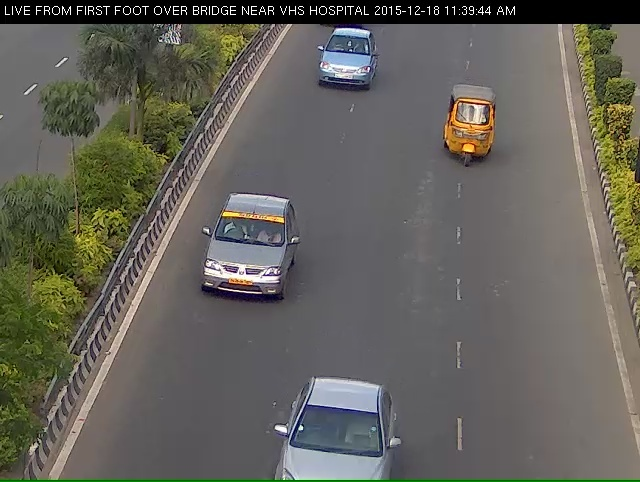Auto: (444, 93, 497, 181)
Car: (191, 200, 297, 327), (266, 418, 404, 481), (310, 29, 386, 108)
